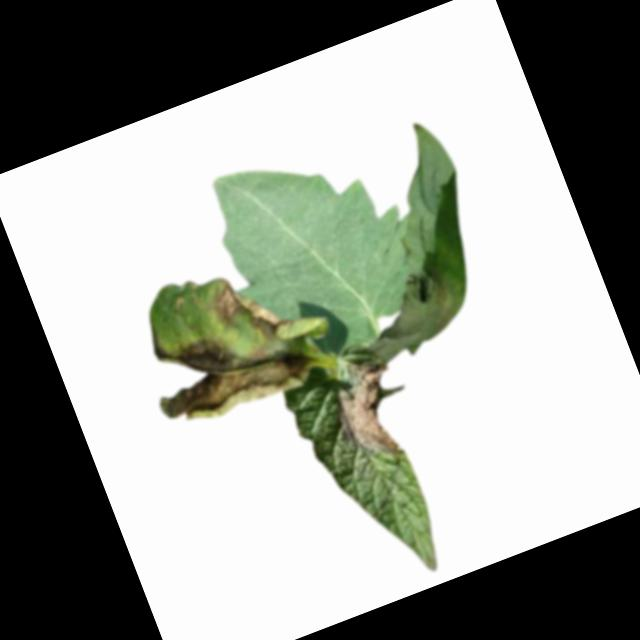Late_blight: (136, 291, 319, 436), (353, 260, 473, 364), (323, 354, 420, 470), (203, 263, 291, 360)
healthy: (195, 123, 433, 381)
